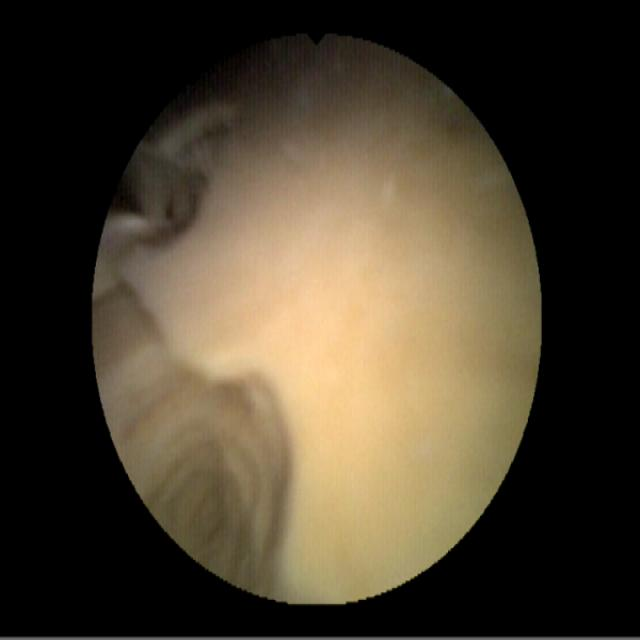stone: (99, 43, 529, 591)
